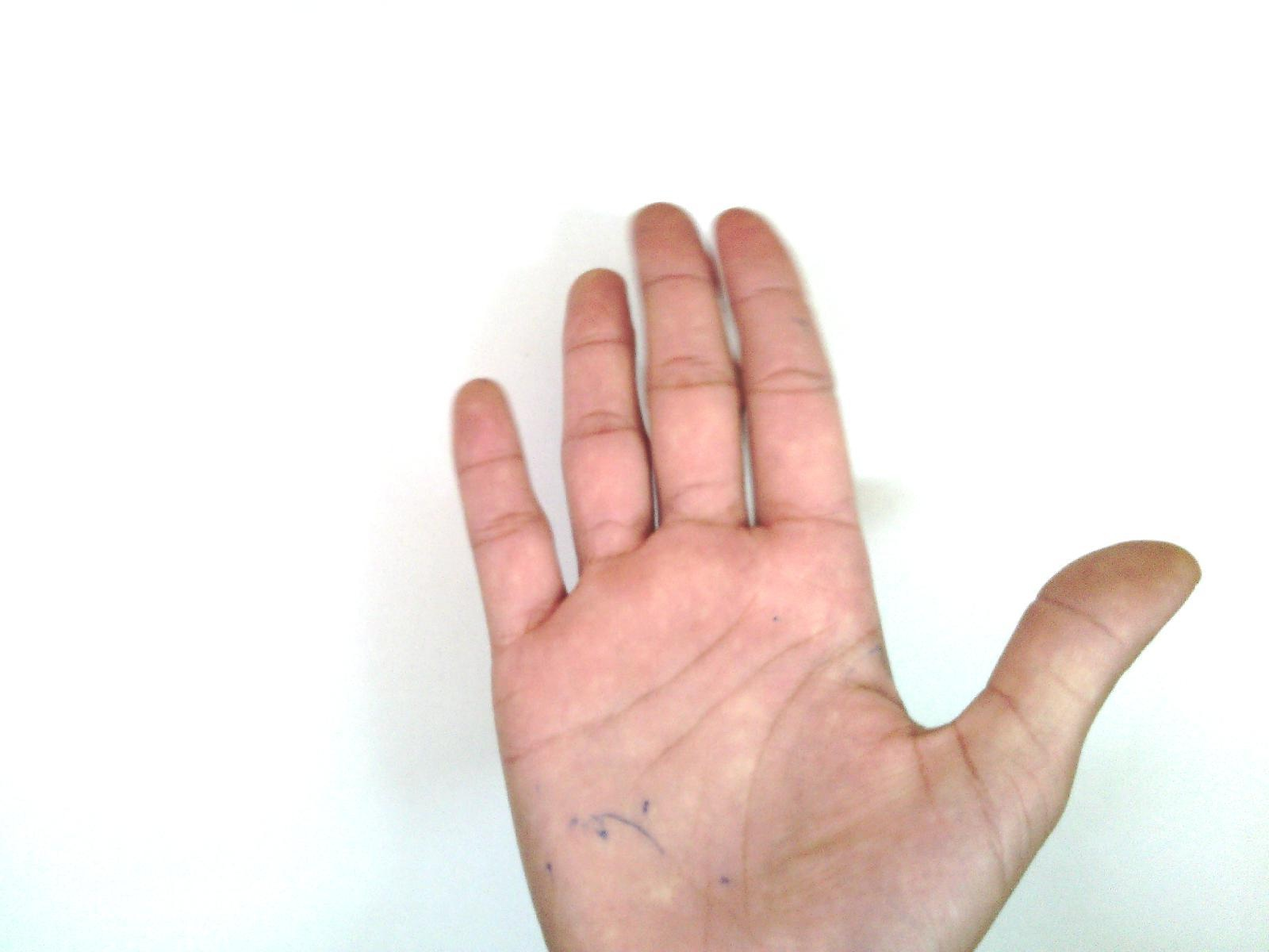open_palm: (446, 201, 1203, 951)
